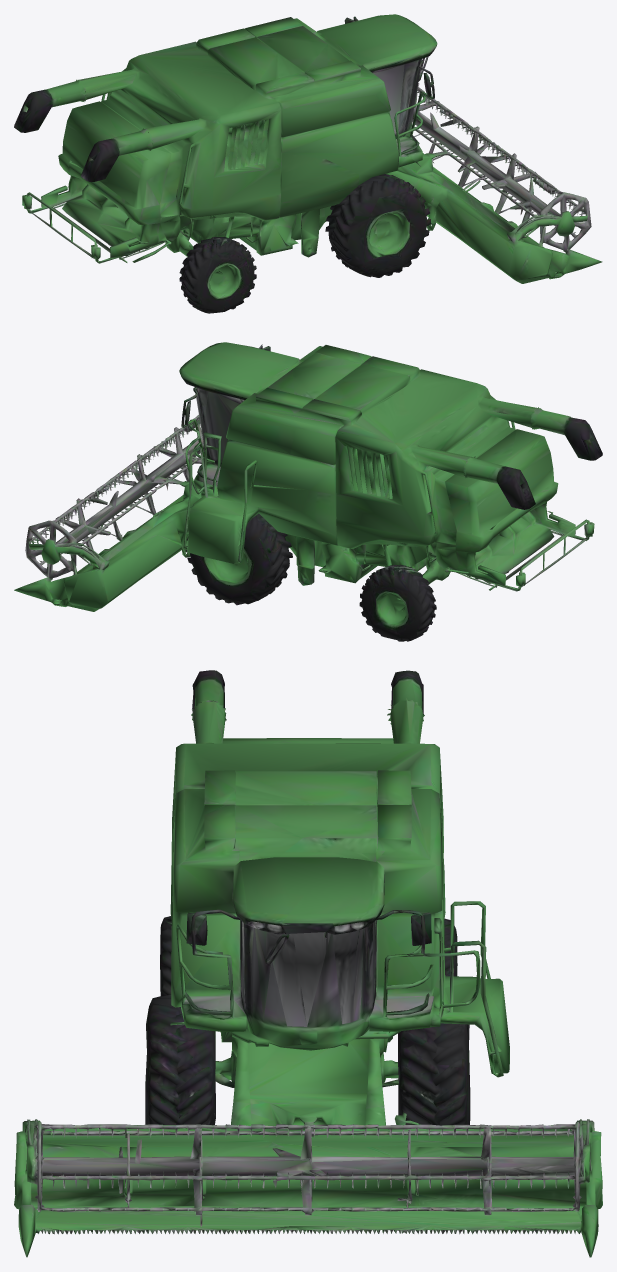
File: combine.glb
3 renders of one model, top to bottom at view 1: azimuth 30°, elevation 25°; view 2: azimuth 150°, elevation 25°; view 3: azimuth 270°, elevation 25°, orthographic. The views are drawn at different scales.
Parts seen in each view (by area): view 1: Mesh_0; view 2: Mesh_0; view 3: Mesh_0.
Boxes of the visible parts, x1=… form: Mesh_0: x1=14, y1=14, x2=602, y2=313; Mesh_0: x1=14, y1=342, x2=602, y2=641; Mesh_0: x1=14, y1=670, x2=602, y2=1257.
Bounding box in the file's own units: 9.01 × 3.75 × 6.78.
Materials: 1 (1 with a texture image).
